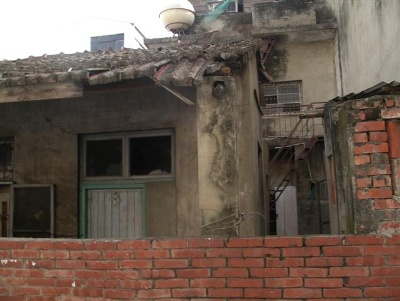water_tower: (158, 1, 197, 33)
